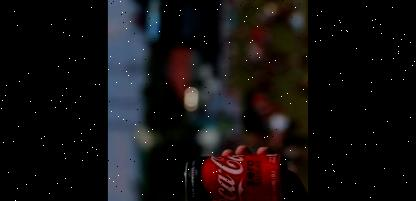Can: (183, 151, 289, 201)
